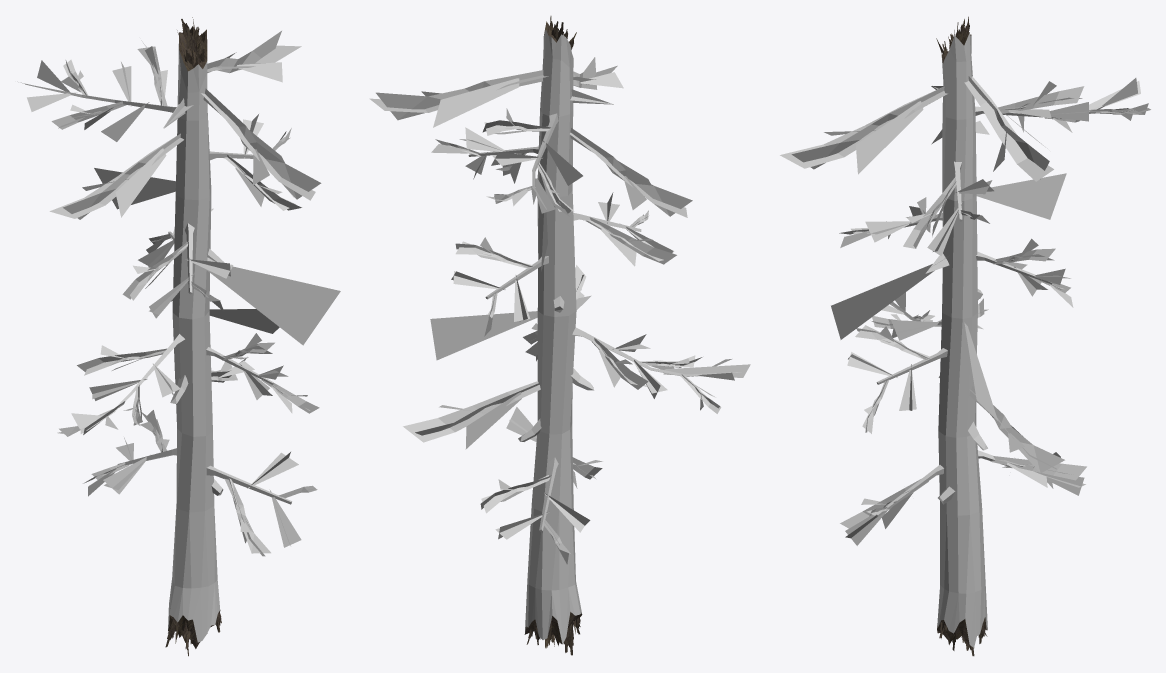
Rendered from SM_PineDead04.obj.
3 views of the same model, side by side, from view 1: azimuth 30°, elevation 25°; view 2: azimuth 150°, elevation 25°; view 3: azimuth 270°, elevation 25° (orthographic).
Visible parts, largest first — view 1: SM_PineDead04; view 2: SM_PineDead04; view 3: SM_PineDead04.
Boxes of the visible parts, <box> form: SM_PineDead04: <box>17,17,340,656</box>; SM_PineDead04: <box>369,16,750,655</box>; SM_PineDead04: <box>780,16,1150,656</box>.
Size of what is drawn, in the model's own units: 89.08 by 182 by 95.91.
